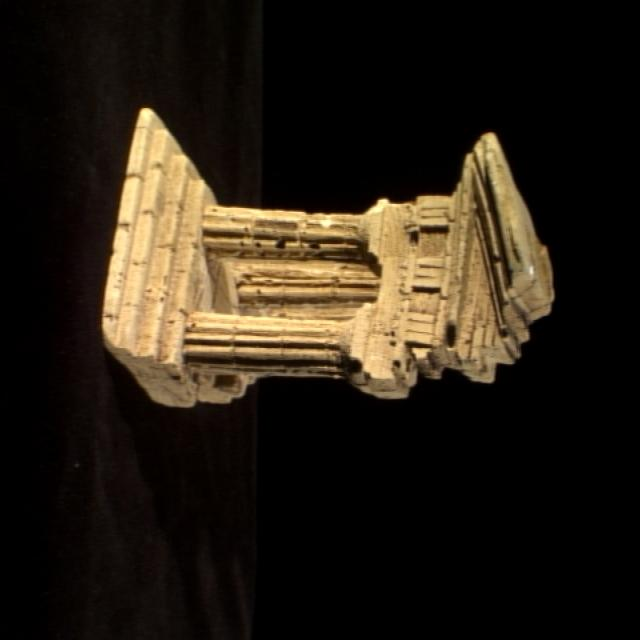Instance-Segmentation: (103, 108, 553, 405)
